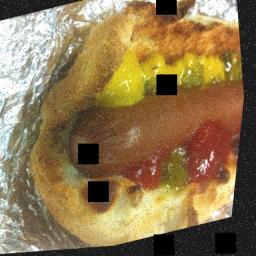hotdog: (60, 77, 248, 190)
